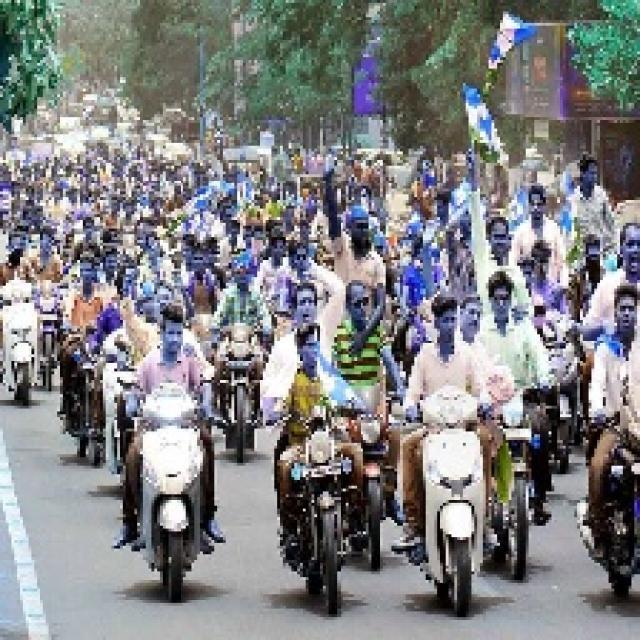bike: (408, 384, 489, 602), (275, 411, 359, 614), (132, 396, 209, 602), (492, 370, 554, 595), (584, 404, 640, 608), (208, 296, 268, 466), (346, 378, 398, 570), (58, 315, 115, 473), (4, 252, 46, 404)
